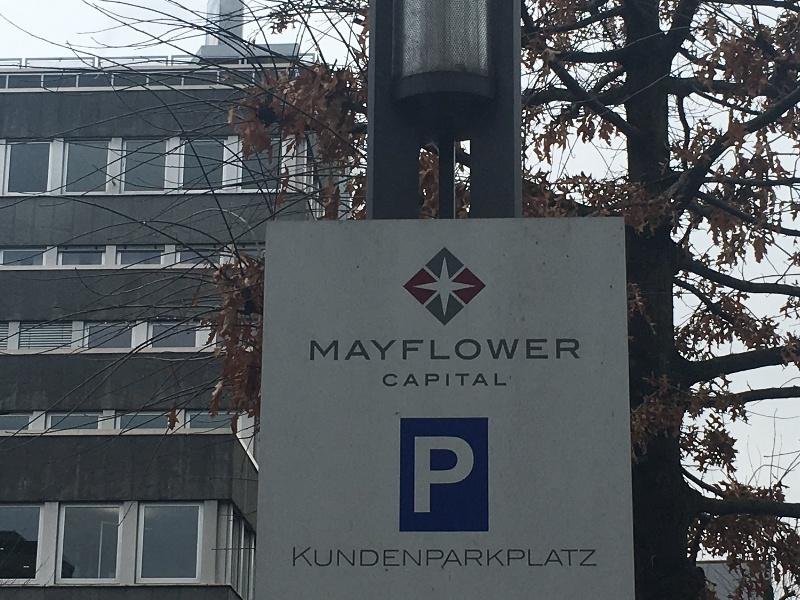text: (417, 436, 432, 514), (433, 436, 448, 514), (449, 436, 464, 514), (465, 436, 474, 514), (321, 339, 336, 362), (337, 339, 352, 362), (353, 339, 368, 362), (369, 339, 384, 362), (385, 339, 400, 362), (401, 339, 416, 362), (417, 339, 432, 362), (433, 339, 448, 362), (449, 339, 464, 362), (465, 339, 480, 362), (481, 339, 496, 362), (497, 339, 512, 362), (513, 339, 528, 362), (529, 339, 544, 362), (545, 339, 560, 362), (561, 339, 576, 362), (305, 548, 320, 568), (321, 548, 336, 568), (337, 548, 352, 568), (353, 548, 368, 568), (369, 548, 384, 568), (385, 548, 400, 568), (401, 548, 416, 568), (417, 548, 432, 568), (433, 548, 448, 568), (449, 548, 464, 568), (465, 548, 480, 568), (481, 548, 496, 568), (497, 548, 512, 568), (513, 548, 528, 568), (529, 548, 544, 568), (545, 548, 560, 568), (561, 548, 576, 568), (577, 548, 592, 568), (385, 373, 400, 388), (401, 373, 416, 388), (417, 373, 432, 388), (433, 373, 448, 388), (449, 373, 464, 388), (465, 373, 480, 388), (481, 373, 496, 388), (311, 339, 320, 362), (294, 548, 304, 568), (497, 373, 507, 388), (593, 548, 598, 568), (415, 436, 416, 514), (577, 339, 580, 362), (383, 373, 384, 388)
